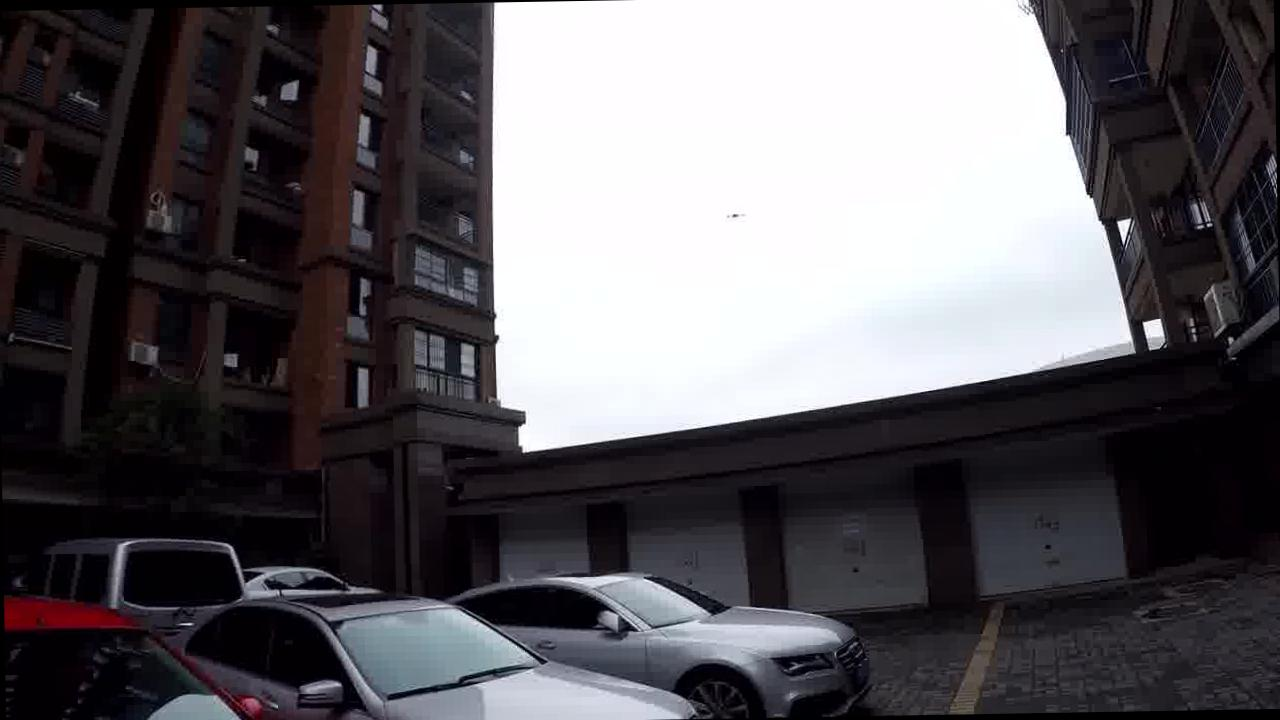drone: (708, 183, 747, 234)
